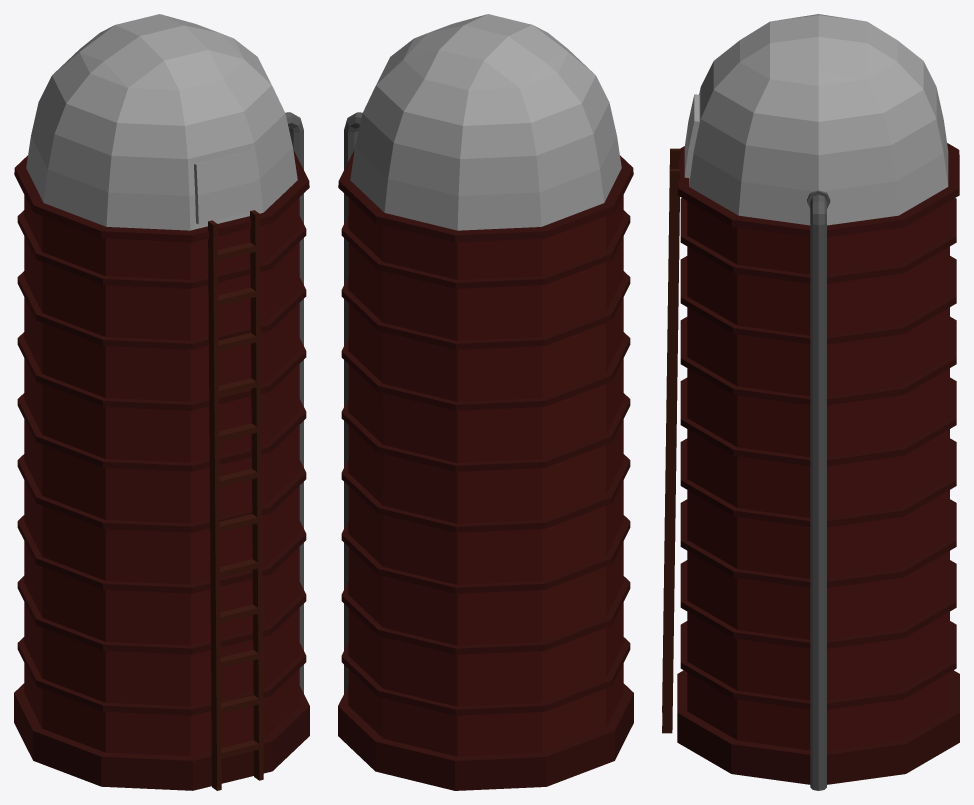
The model's file is Silo.obj.
The picture shows the model from 3 angles, left to right: view 1: azimuth 30°, elevation 25°; view 2: azimuth 150°, elevation 25°; view 3: azimuth 270°, elevation 25°; orthographic projection.
Parts seen in each view (by area): view 1: Silo; view 2: Silo; view 3: Silo.
Boxes of the visible parts, x1=… form: Silo: x1=14, y1=14, x2=309, y2=790; Silo: x1=338, y1=14, x2=633, y2=790; Silo: x1=662, y1=14, x2=959, y2=790.
Bounding box in the file's own units: 3.67 × 9.07 × 3.51.
